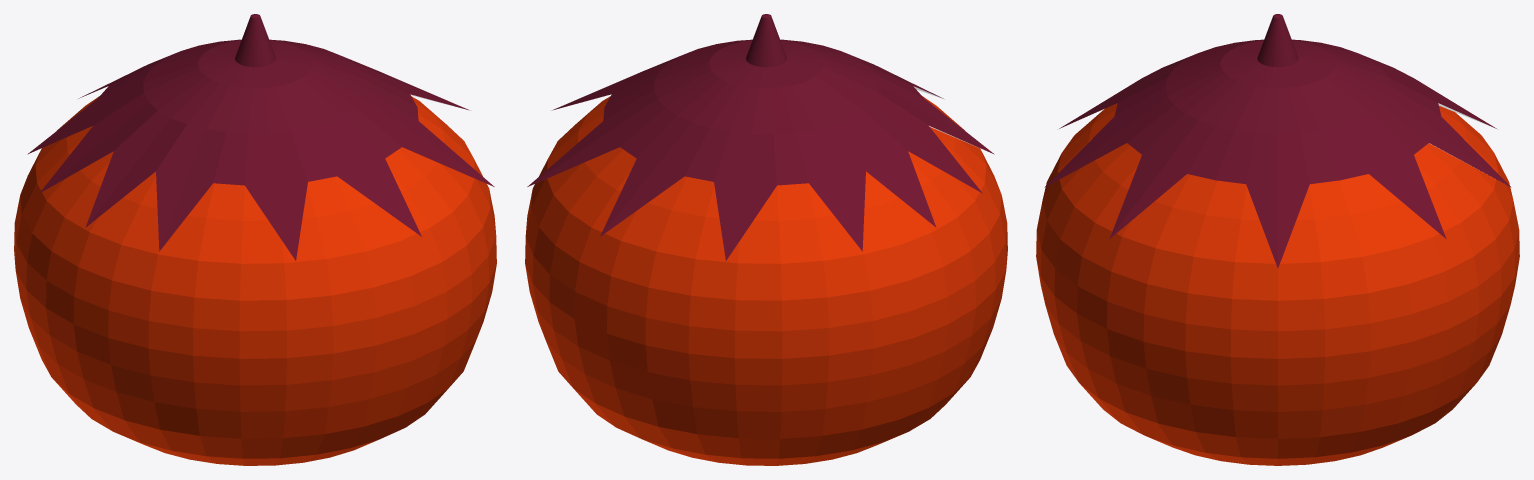
The model's file is tomato.gltf.
3 views of the same model, side by side, from view 1: azimuth 30°, elevation 25°; view 2: azimuth 150°, elevation 25°; view 3: azimuth 270°, elevation 25° (orthographic).
Parts seen in each view (by area): view 1: Sphere; view 2: Sphere; view 3: Sphere.
Boxes of the visible parts, x1,y1,x2,y2 form: Sphere: [14, 14, 496, 465]; Sphere: [525, 14, 1007, 465]; Sphere: [1036, 14, 1519, 465].
Bounding box in the file's own units: 0.6689 × 0.6333 × 0.6587.
